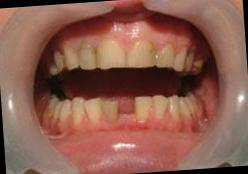Crowding: (71, 97, 102, 123)
Healthy: (95, 40, 160, 70)
Missing: (104, 94, 150, 123)
